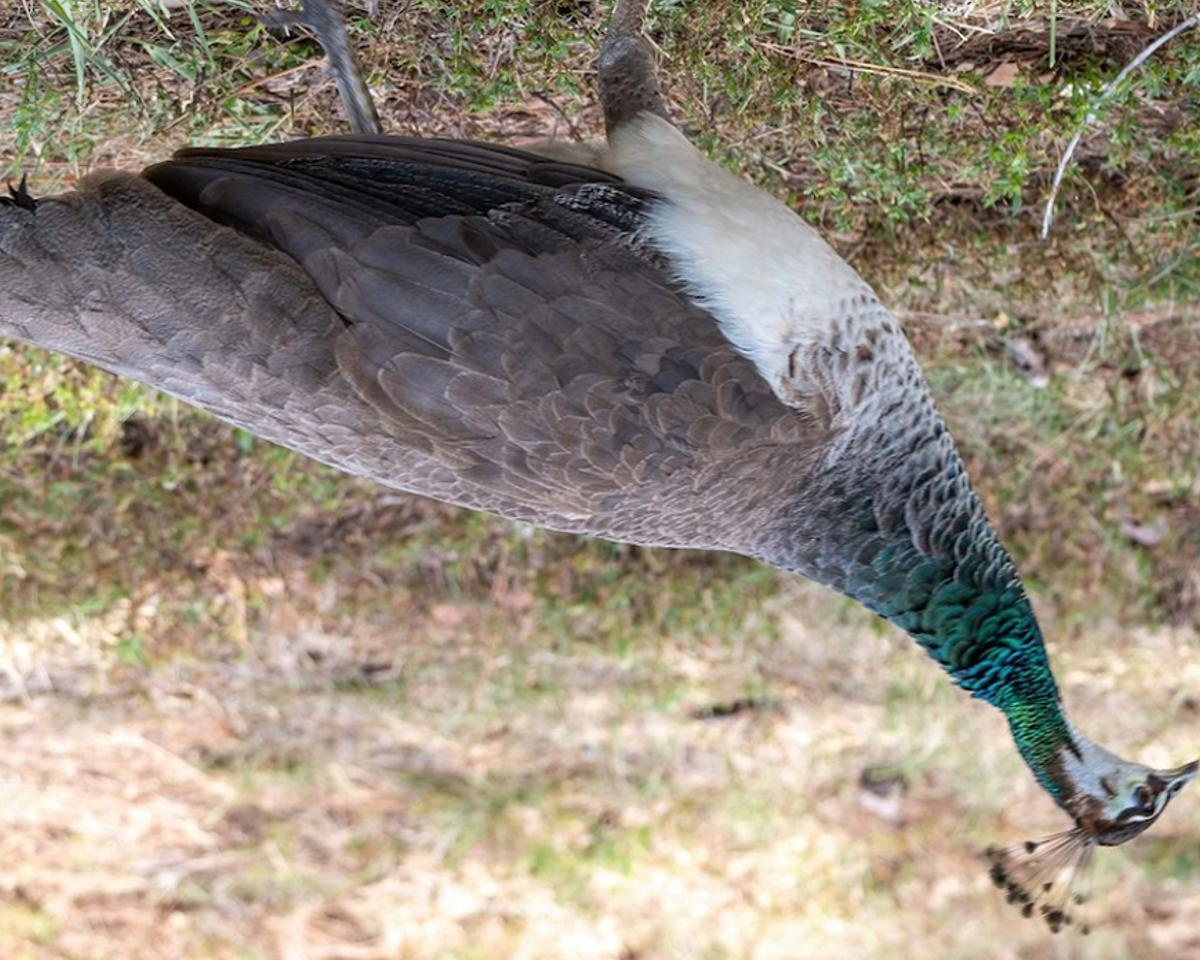peacock: (19, 8, 1200, 870)
